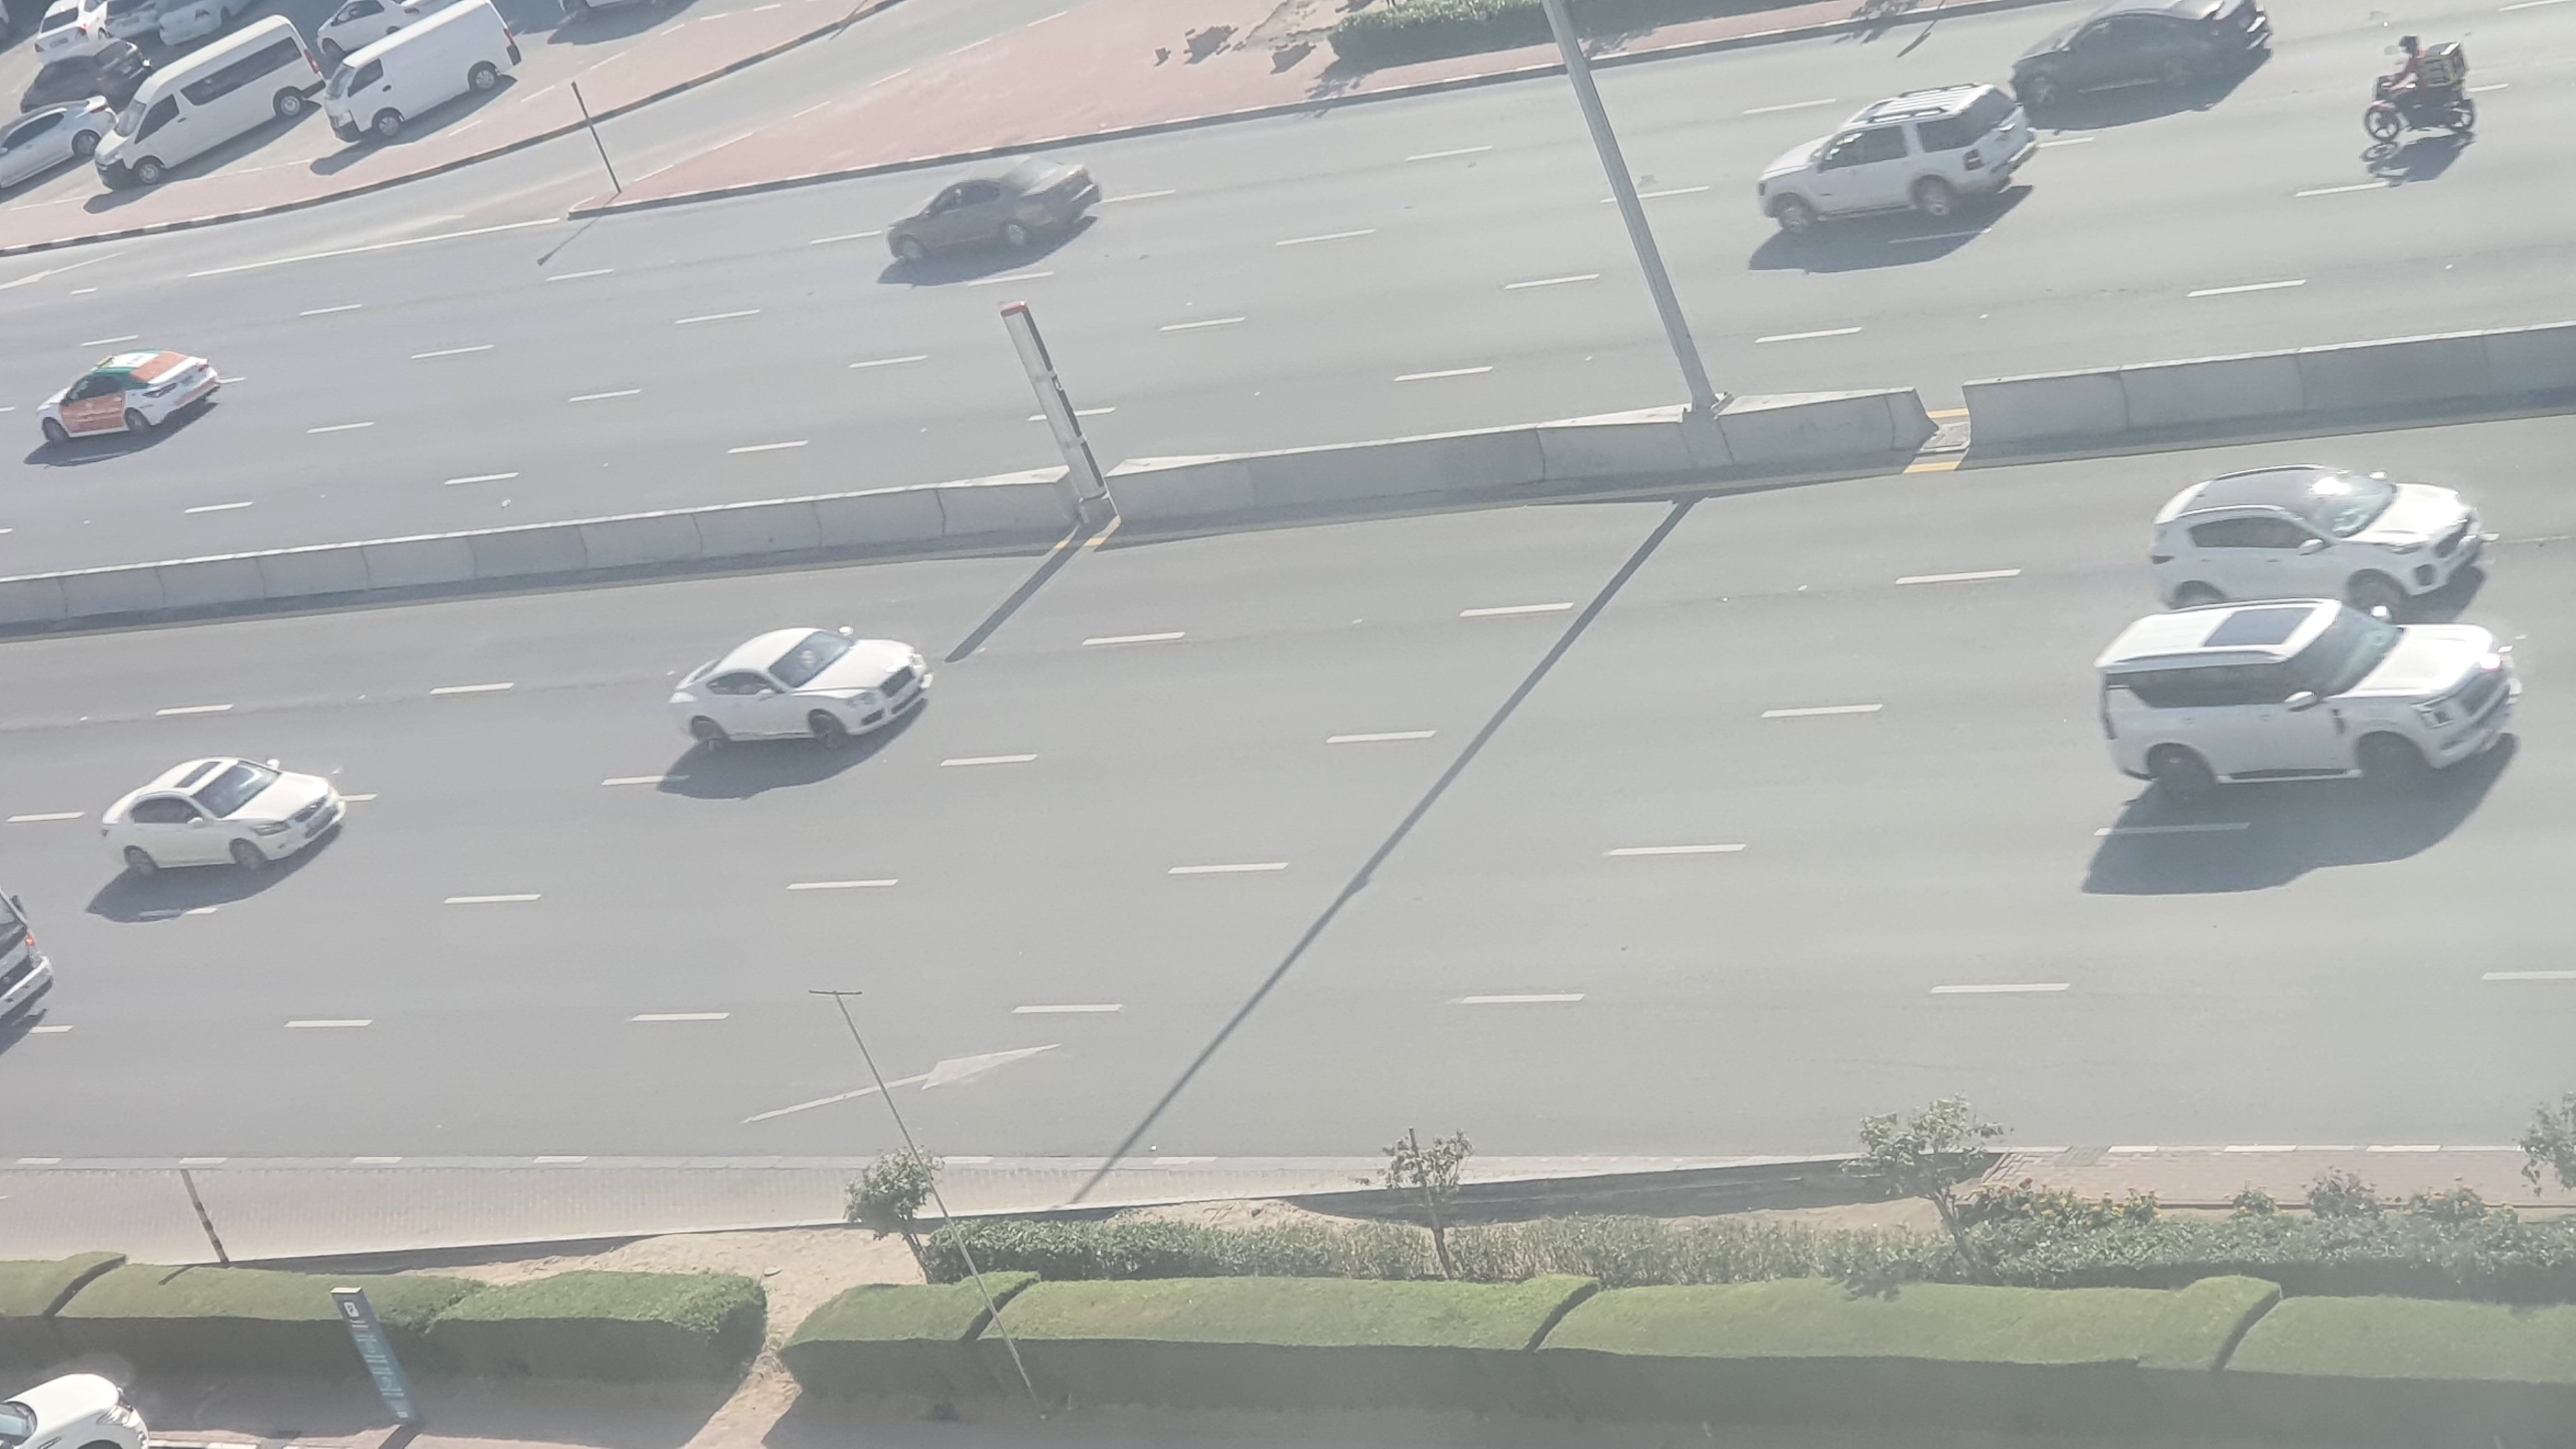NotSunroof: (669, 621, 938, 752)
Sunroof: (2088, 598, 2526, 793), (2150, 464, 2489, 602), (96, 755, 350, 886)
